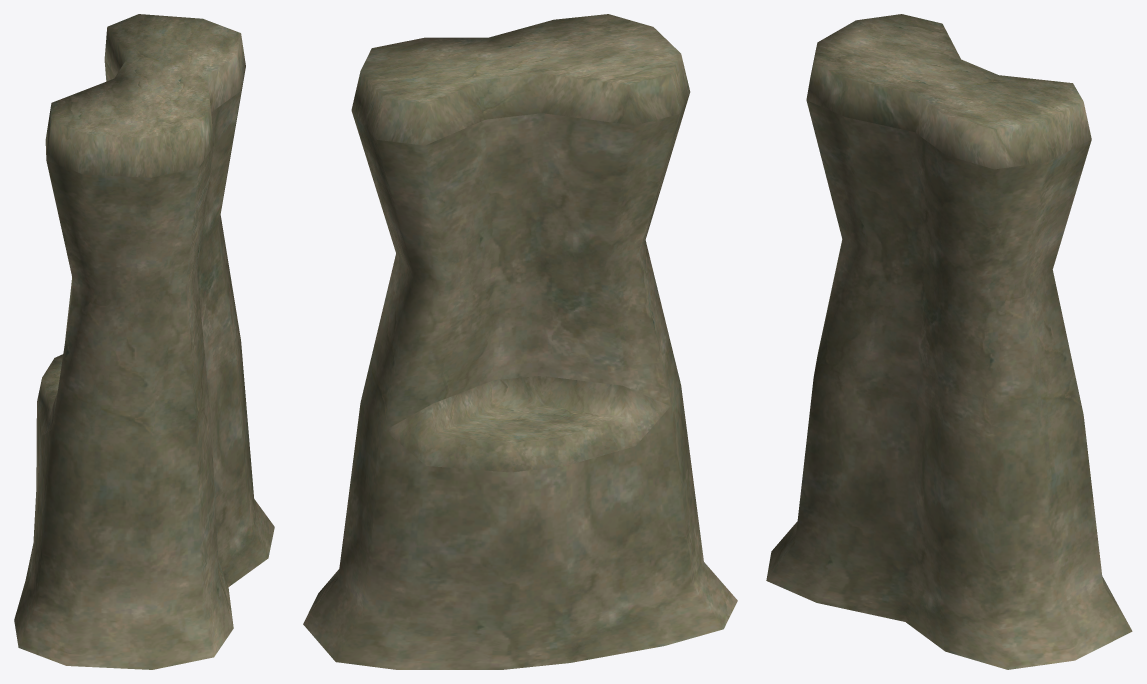
The model's file is OVERHILL_A_01_CAVE_PLATFORM.fbx.
3 views of the same model, side by side, from view 1: azimuth 30°, elevation 25°; view 2: azimuth 150°, elevation 25°; view 3: azimuth 270°, elevation 25° (orthographic). The views are drawn at different scales.
Visible parts, largest first — view 1: OVERHILL_A_01_CAVE_PLATFORM; view 2: OVERHILL_A_01_CAVE_PLATFORM; view 3: OVERHILL_A_01_CAVE_PLATFORM.
Part boxes in pixels (x1,y1,x2,y2): OVERHILL_A_01_CAVE_PLATFORM: (14, 14, 274, 669); OVERHILL_A_01_CAVE_PLATFORM: (303, 14, 737, 669); OVERHILL_A_01_CAVE_PLATFORM: (766, 14, 1132, 669).
Bounding box in the file's own units: 34750 × 53553 × 34227.
Materials: 1 (1 with a texture image).
